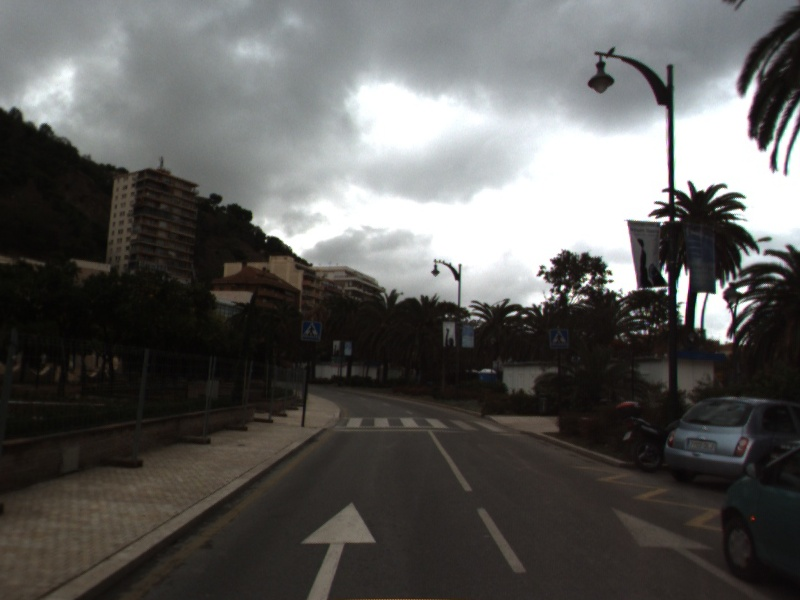STRAIGHT: (611, 506, 770, 600), (298, 500, 378, 600)
